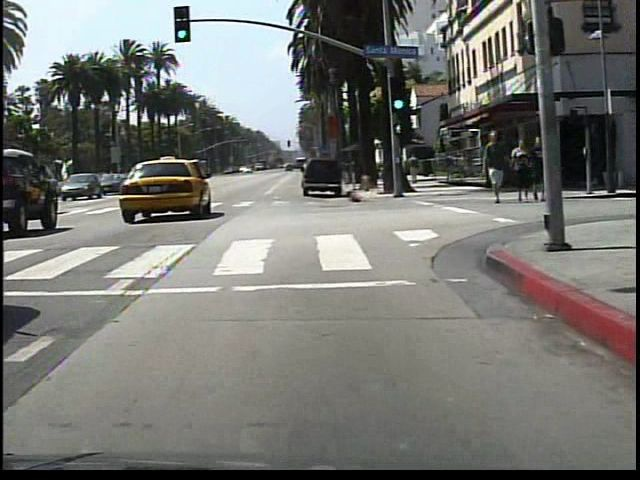person: (478, 125, 511, 209), (510, 136, 533, 207)
